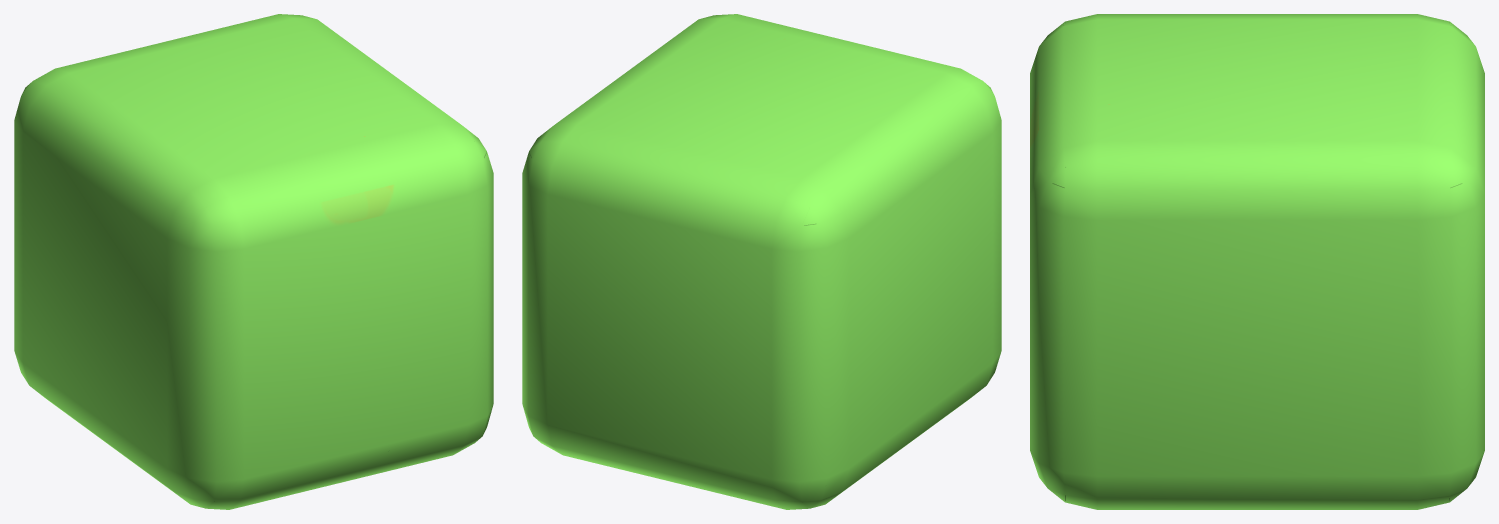
File: TileBlockVerde.fbx
3 views of the same model, side by side, from view 1: azimuth 30°, elevation 25°; view 2: azimuth 150°, elevation 25°; view 3: azimuth 270°, elevation 25° (orthographic). The views are drawn at different scales.
Parts seen in each view (by area): view 1: Cube; view 2: Cube; view 3: Cube.
Boxes of the visible parts, box(x1,y1,x2,y2) form: Cube: box(14, 14, 493, 509); Cube: box(522, 14, 1001, 509); Cube: box(1030, 14, 1484, 509).
Bounding box in the file's own units: 2526 × 2481 × 2815.
Materials: 1 (1 with a texture image).
